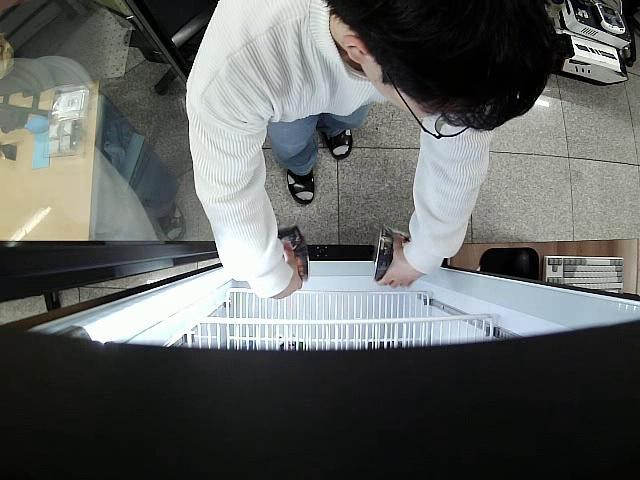07_buldak_L: (368, 224, 408, 285), (278, 223, 311, 284)
